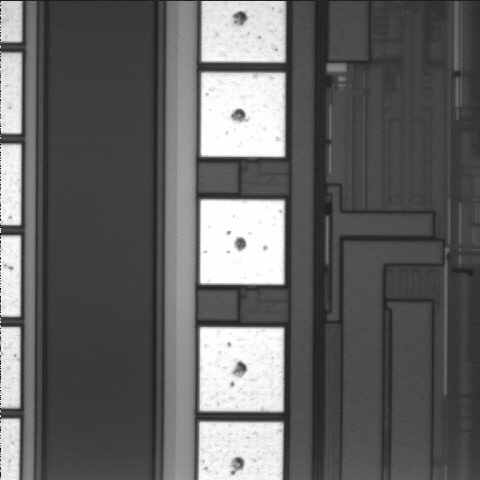pad: (200, 199, 285, 285), (199, 327, 284, 412), (201, 72, 285, 157)
